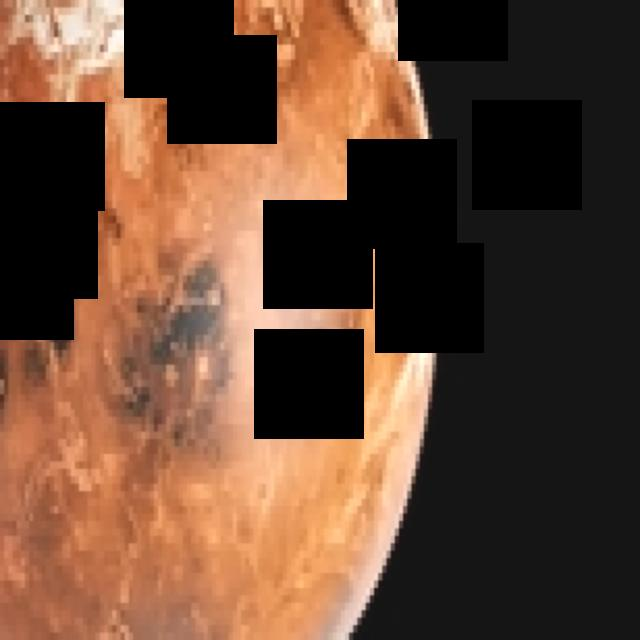Venus: (1, 0, 440, 640)
